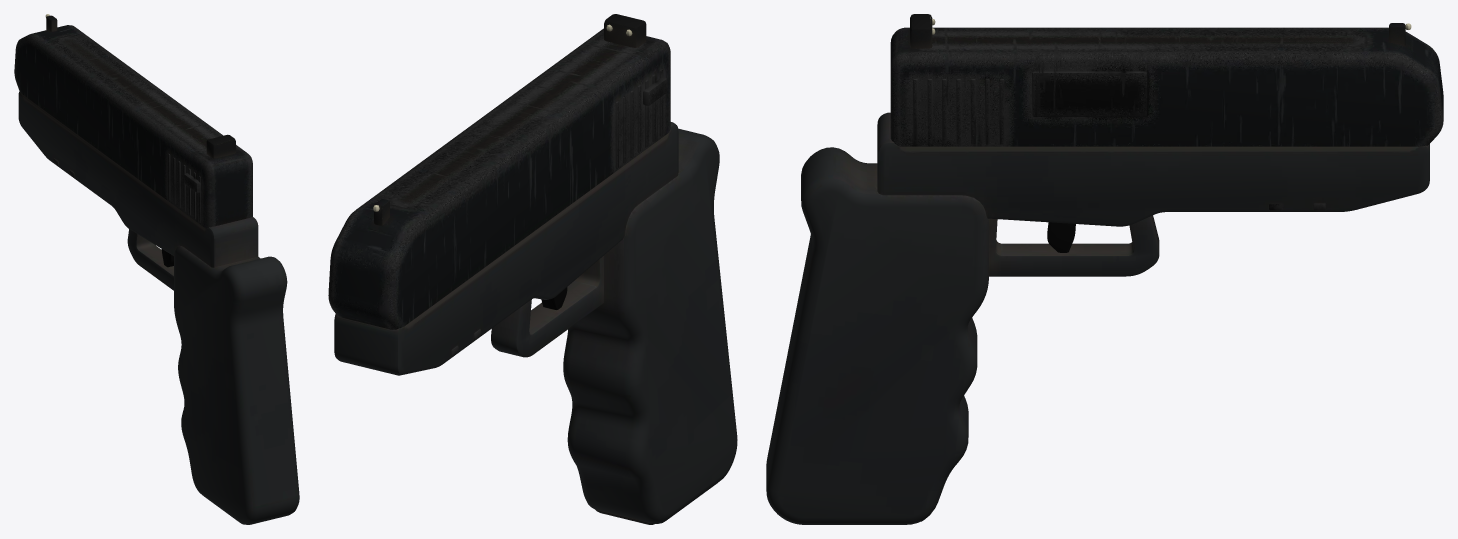
The model's file is glock.glb.
3 renders of one model, left to right at view 1: azimuth 30°, elevation 25°; view 2: azimuth 150°, elevation 25°; view 3: azimuth 270°, elevation 25°, orthographic. The views are drawn at different scales.
Parts seen in each view (by area): view 1: body_furniture, slide_receiver, slide_metal; view 2: body_furniture, slide_receiver, slide_metal; view 3: body_furniture, slide_receiver, slide_metal.
Boxes of the visible parts, x1,y1,x2,y2 form: body_furniture: [18, 91, 299, 524]; slide_receiver: [14, 25, 252, 228]; slide_metal: [45, 14, 235, 158]; body_furniture: [334, 122, 737, 523]; slide_receiver: [328, 28, 670, 329]; slide_metal: [373, 14, 646, 225]; body_furniture: [766, 112, 1429, 524]; slide_receiver: [890, 27, 1443, 146]; slide_metal: [910, 14, 1411, 48].
Bounding box in the file's own units: 0.0315 × 0.1955 × 0.2446.
Materials: 6 (6 with a texture image).
